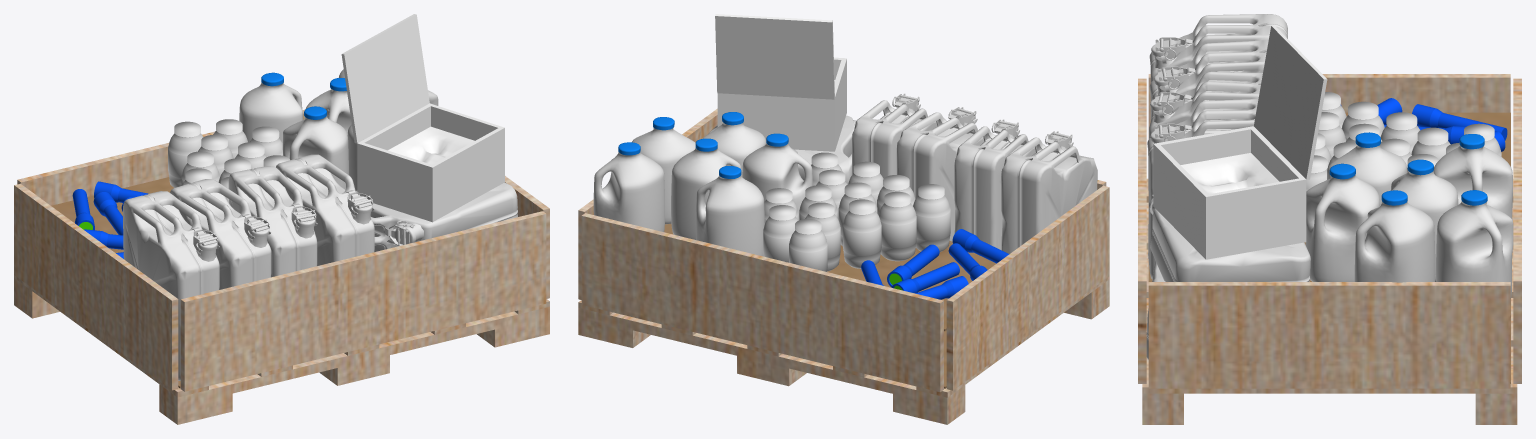
The model's file is ItemStash.fbx.
The picture shows the model from 3 angles, left to right: view 1: azimuth 30°, elevation 25°; view 2: azimuth 150°, elevation 25°; view 3: azimuth 270°, elevation 25°; orthographic projection. The views are drawn at different scales.
Parts seen in each view (by area): view 1: itemstash, jerrican_mesh, Cube.001, mayo; view 2: itemstash, jerrican_mesh, Cube.001, mayo; view 3: itemstash, Cube.001, jerrican_mesh, mayo.
Boxes of the visible parts, bbox=[...] form: itemstash: bbox=[14, 14, 549, 424]; jerrican_mesh: bbox=[123, 154, 517, 380]; Cube.001: bbox=[239, 69, 438, 190]; mayo: bbox=[168, 119, 289, 202]; itemstash: bbox=[578, 14, 1109, 424]; jerrican_mesh: bbox=[708, 93, 1097, 253]; Cube.001: bbox=[593, 112, 812, 256]; mayo: bbox=[763, 152, 950, 271]; itemstash: bbox=[1138, 25, 1521, 424]; Cube.001: bbox=[1305, 132, 1513, 298]; jerrican_mesh: bbox=[1146, 14, 1310, 359]; mayo: bbox=[1291, 92, 1501, 191].
Bounding box in the file's own units: 518 × 360 × 397.
